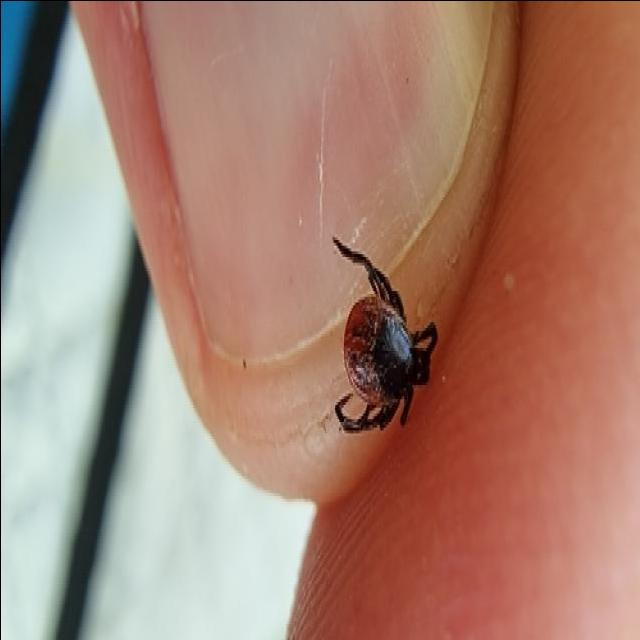Ixodes Ricinus-F: (332, 236, 436, 432)
